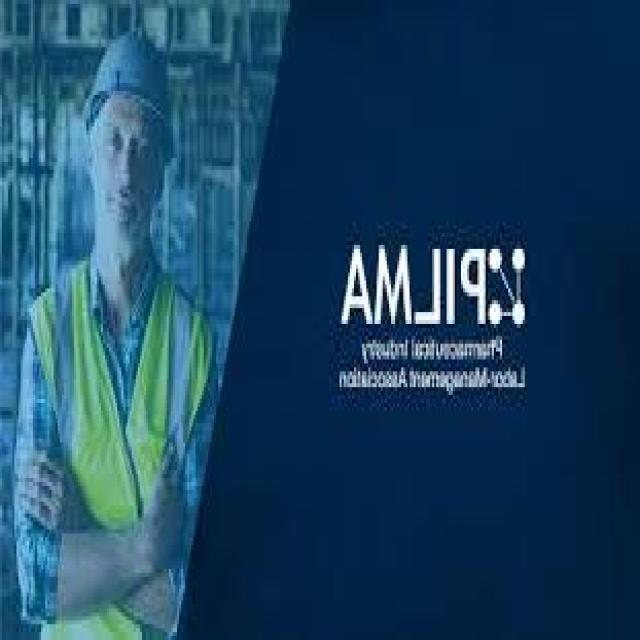Safety-Helmet: (80, 28, 175, 130)
